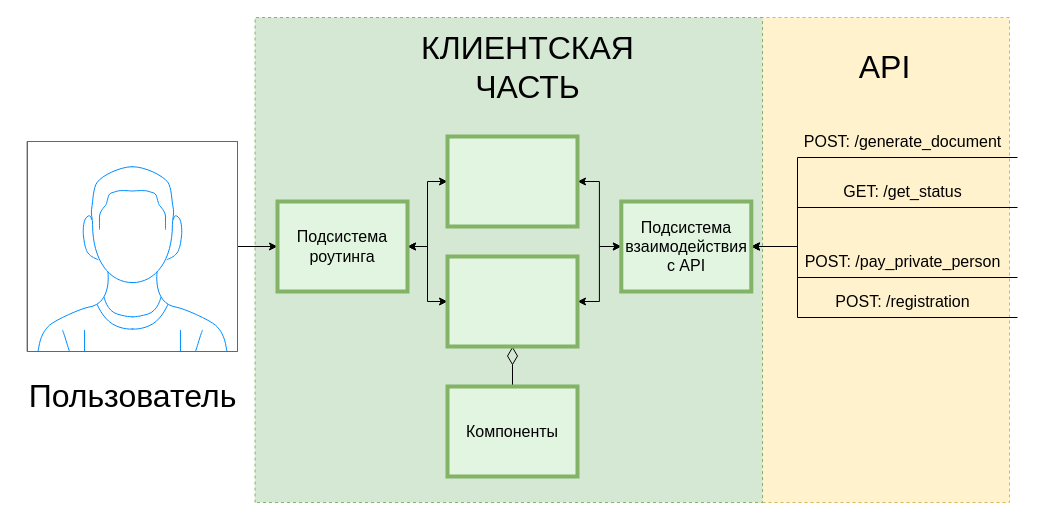
This 1043x521 diagram has some shape labels left out. The centre of each missing label's shape, as x and y in pixels:
"Контейнеры" goes at point 512,301.
"Подсистема предпоказа паспорта ПЭС" goes at point 512,181.
